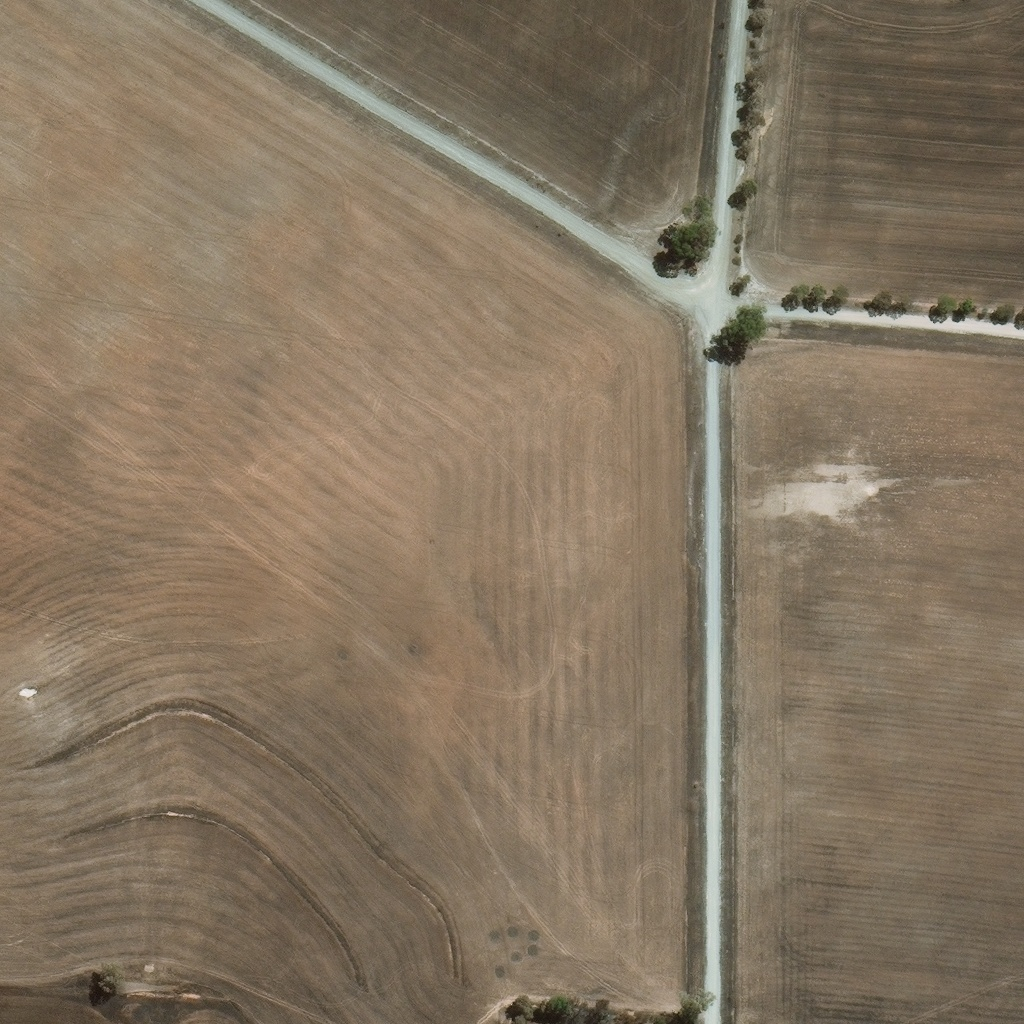3 destroyed: (330, 649, 343, 661)
